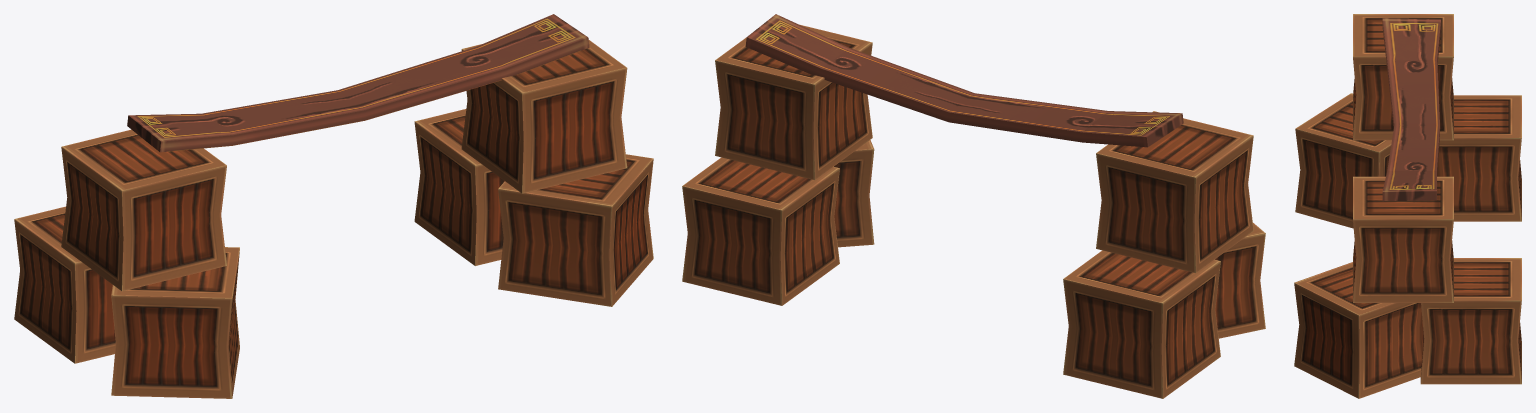
Rendered from Obstacle_01.FBX.
3 views of the same model, side by side, from view 1: azimuth 30°, elevation 25°; view 2: azimuth 150°, elevation 25°; view 3: azimuth 270°, elevation 25° (orthographic). The views are drawn at different scales.
Visible parts, largest first — view 1: Obstacle_01; view 2: Obstacle_01; view 3: Obstacle_01.
Boxes of the visible parts, <box> form: Obstacle_01: <box>14,14,653,398</box>; Obstacle_01: <box>682,14,1265,398</box>; Obstacle_01: <box>1294,14,1521,398</box>.
Size of the model in its own units: 2.59 by 1.01 by 1.12.
